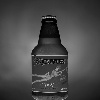beer: (24, 15, 73, 95)
